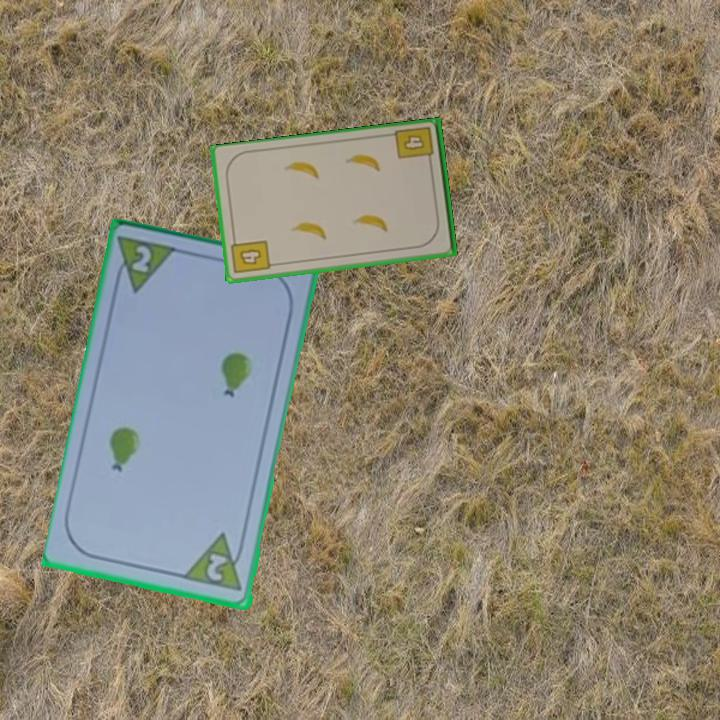2p: (182, 530, 249, 595), (128, 242, 155, 276)
4b: (392, 123, 437, 168), (228, 234, 273, 277)
